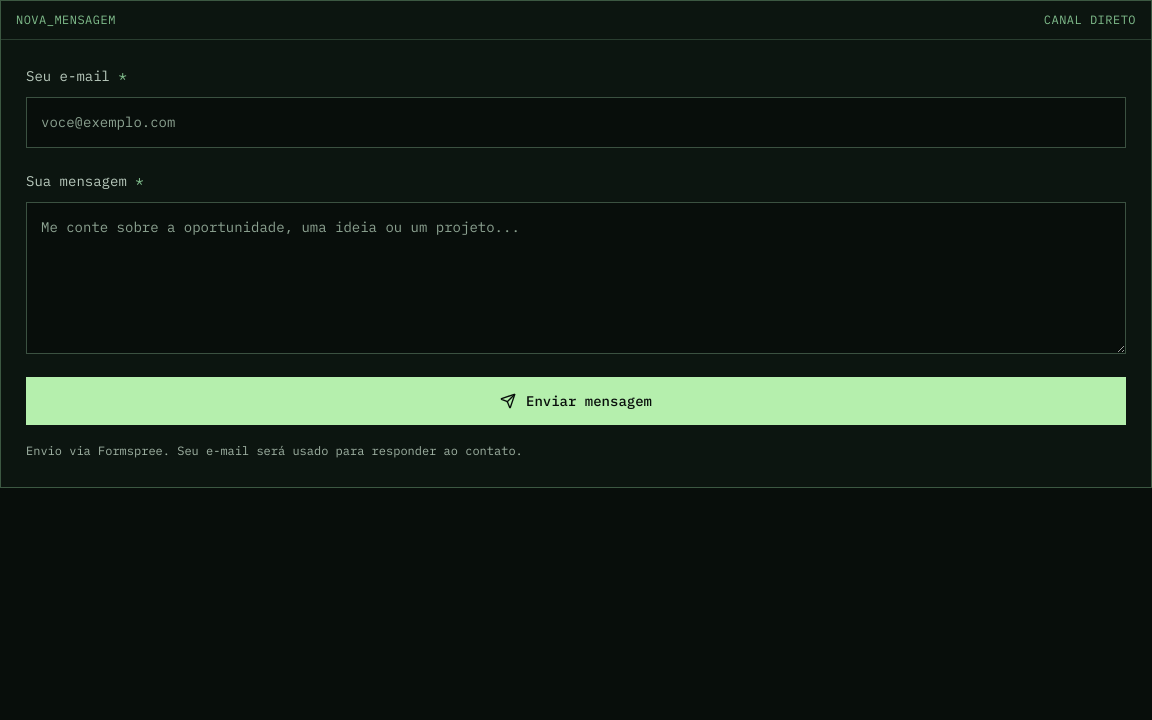
Test: contact form › submits to the configured endpoint and clears the form only on success
This screenshot has width=1152, height=720.
Type "visitor@example.com" into the field labelled "Seu e-mail *" at coordinates (576, 123), box [26, 97, 1126, 148]
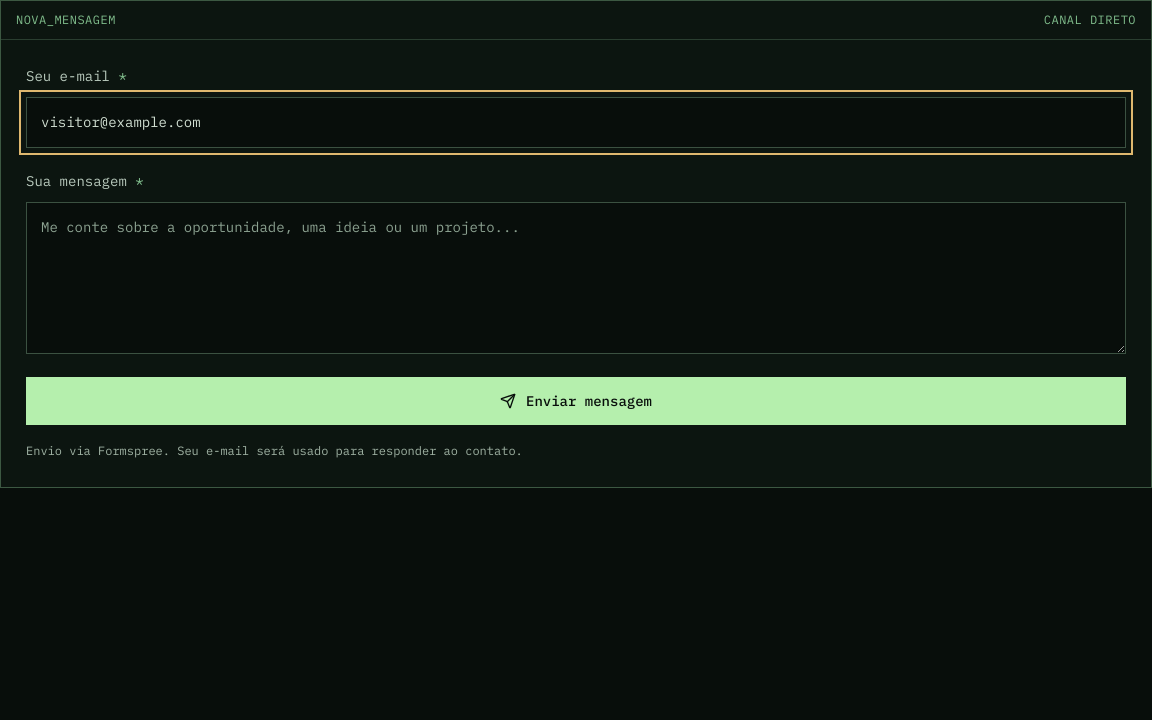
Type "Quero conversar sobre uma oportunidade." into the text box labelled "Sua mensagem *" at coordinates (576, 278), box [26, 202, 1126, 354]
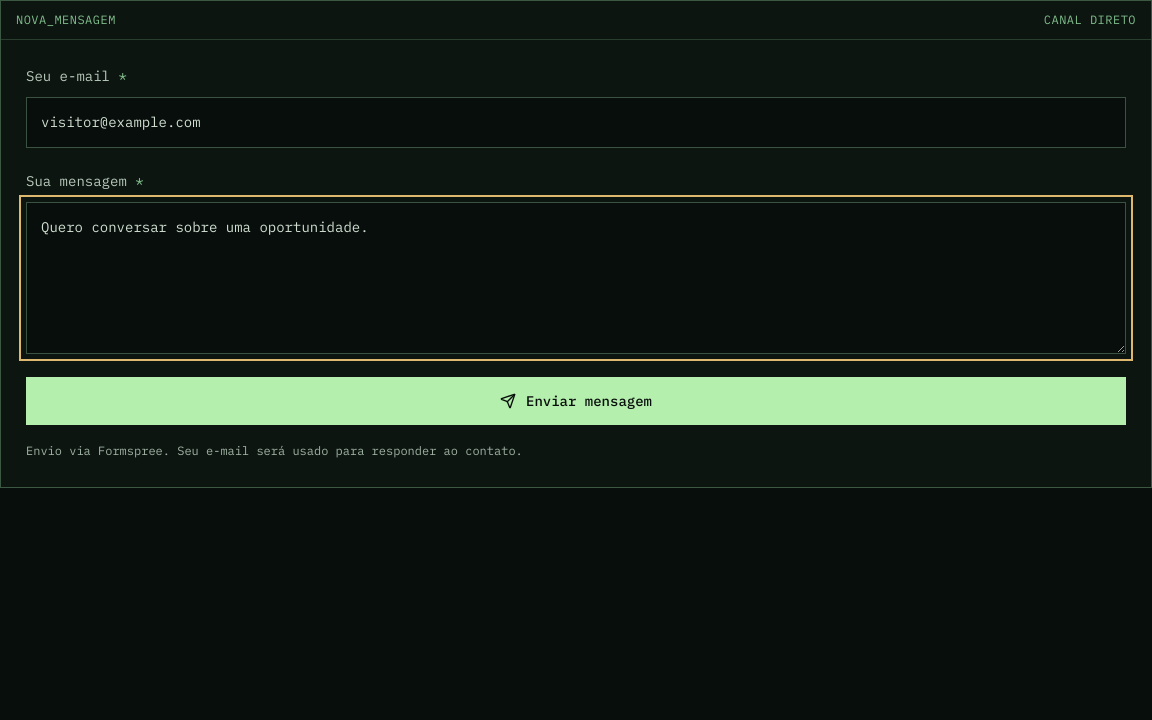
Click the button "Enviar mensagem" at coordinates (576, 401), box [26, 377, 1126, 425]
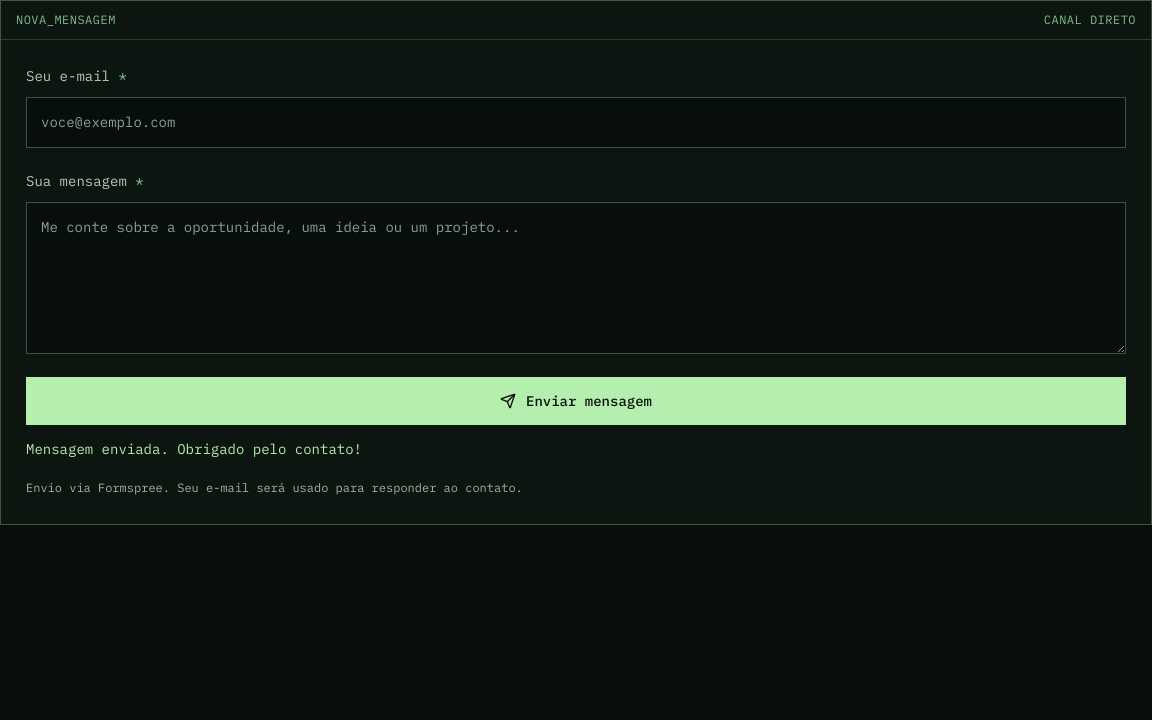
Check: the text "Mensagem enviada. Obrigado pelo contato!" is shown, box [26, 440, 362, 458]
Check: the field labelled "Seu e-mail *" is empty, box [26, 97, 1126, 148]
